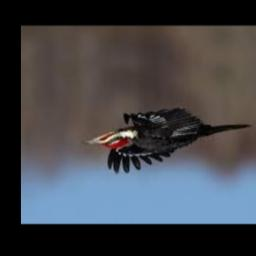Woodpecker: (81, 108, 251, 175)
